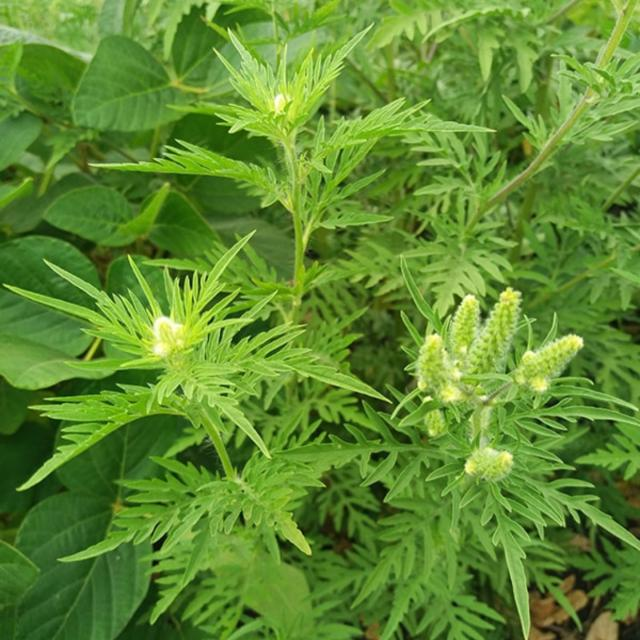ambrosia: (73, 264, 332, 512), (181, 45, 406, 292), (412, 268, 565, 554)
